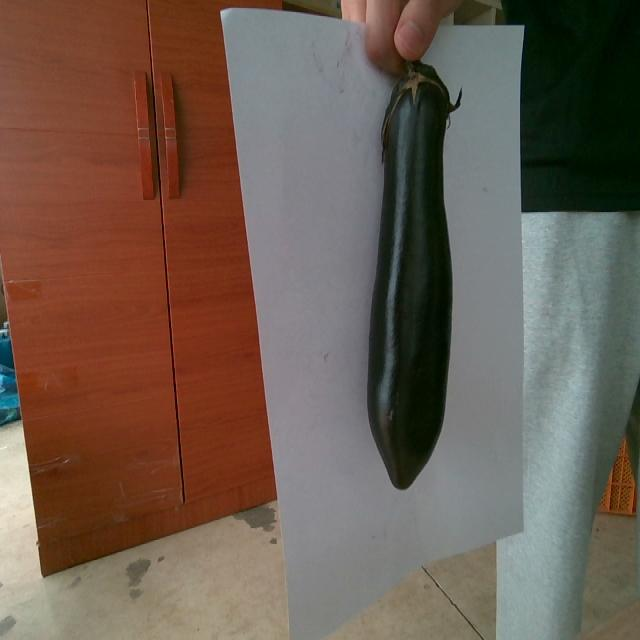Egg plant: (367, 61, 460, 488)
